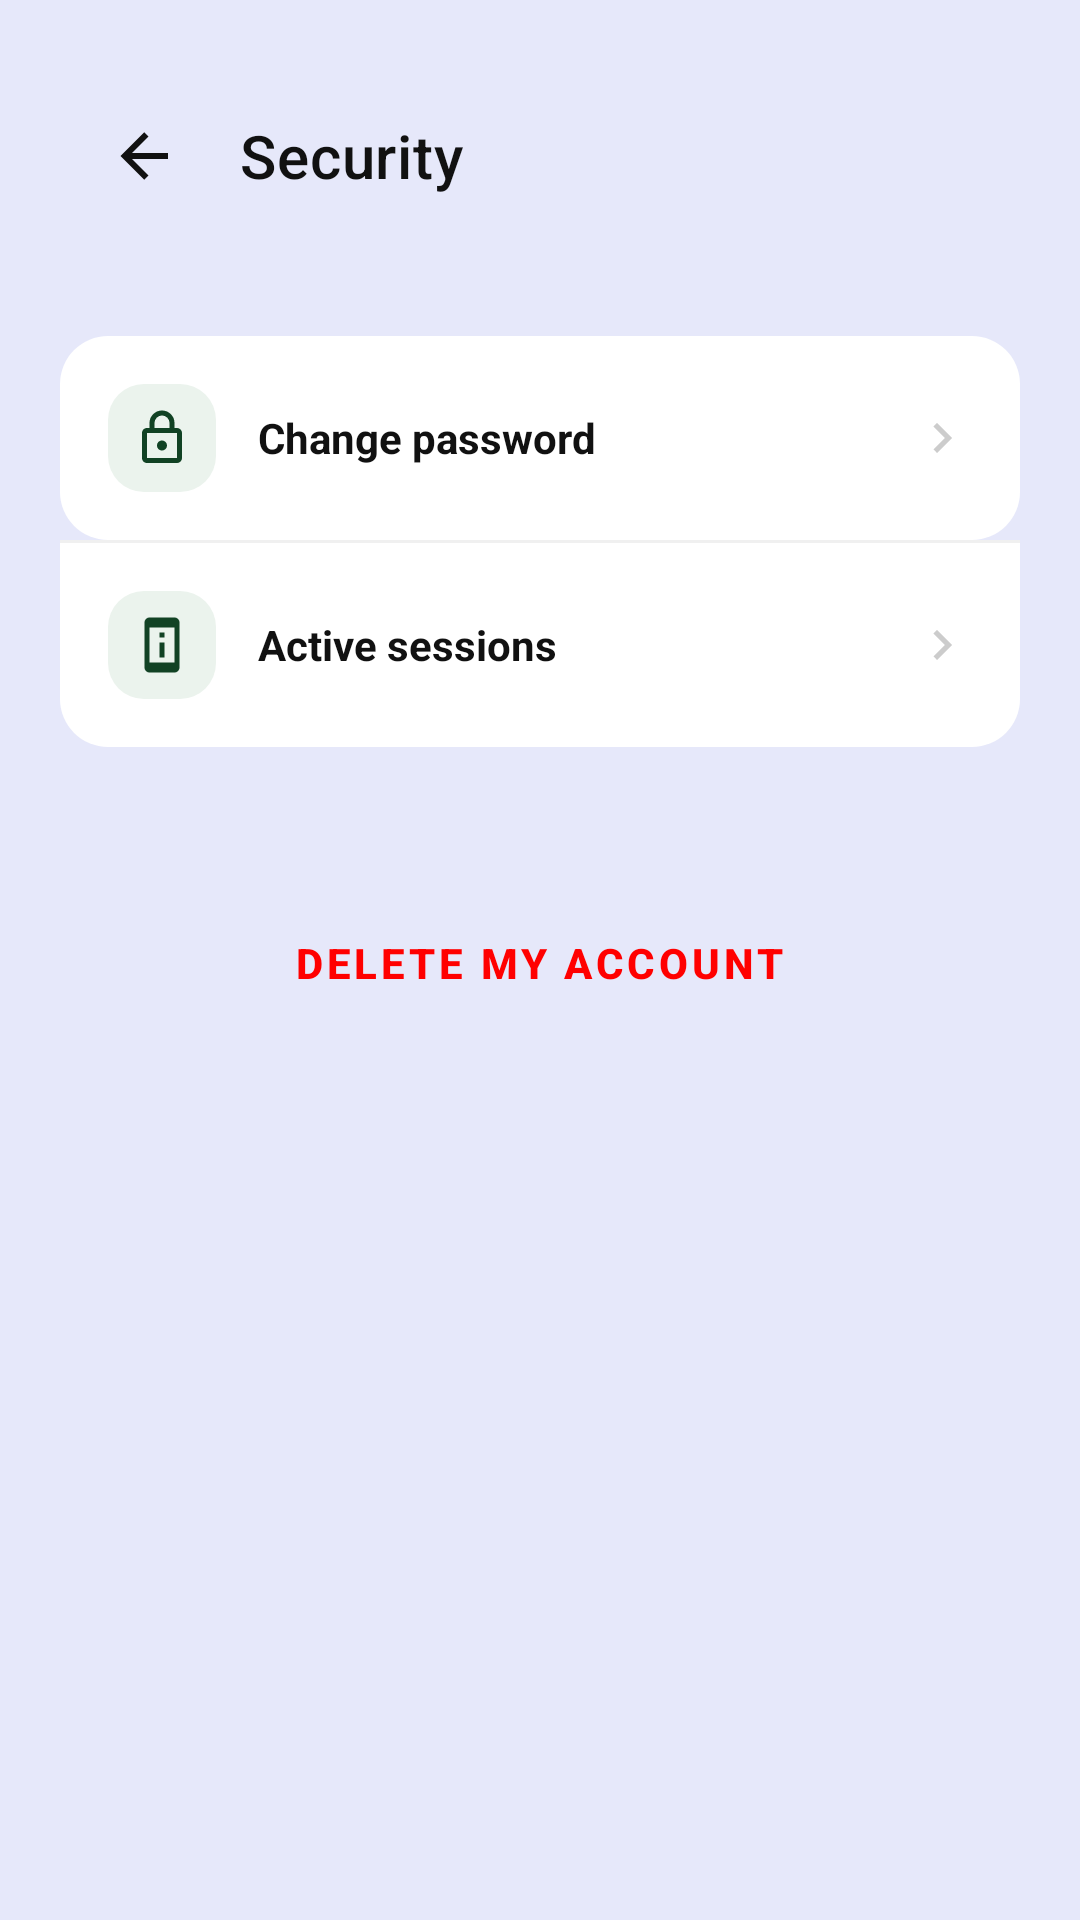

Where icons sit on this 1080*1920 app screen, as [left=x1, top=y1, right=x2, bottom=y2]:
cellphone information: [left=144, top=617, right=180, bottom=673]
chevron right: [left=934, top=423, right=952, bottom=453], [left=934, top=630, right=952, bottom=660]
lock: [left=108, top=384, right=216, bottom=492]
